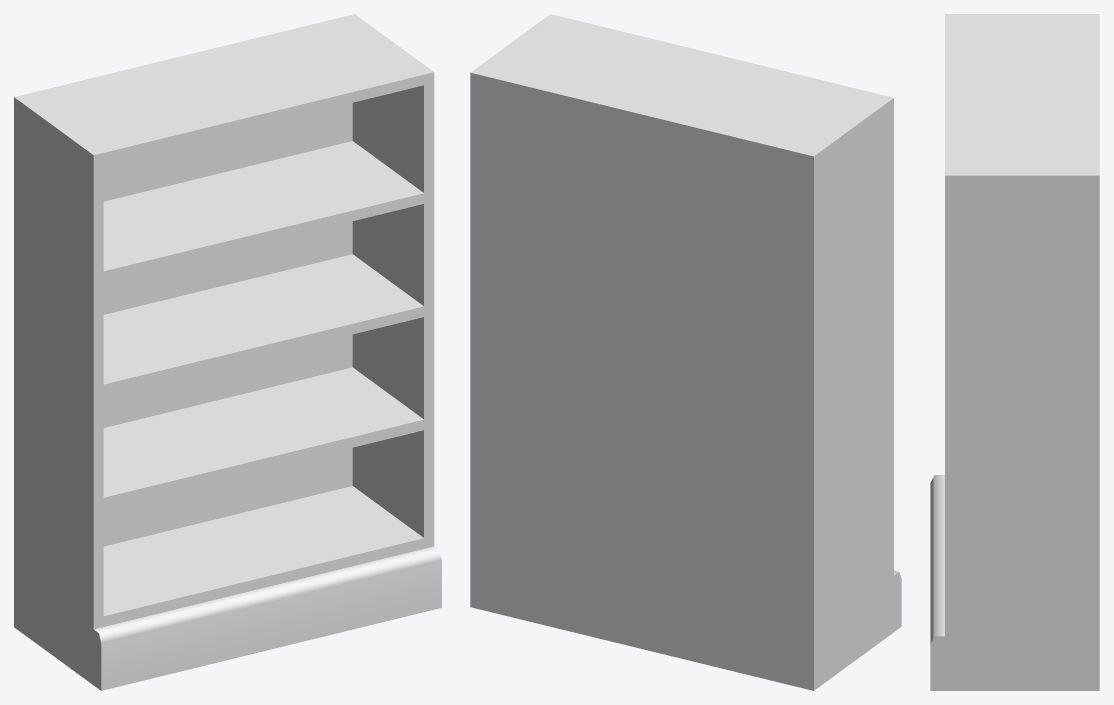
The model's file is cupboard_019.fbx.
3 views of the same model, side by side, from view 1: azimuth 30°, elevation 25°; view 2: azimuth 150°, elevation 25°; view 3: azimuth 270°, elevation 25° (orthographic). The views are drawn at different scales.
Parts seen in each view (by area): view 1: cupboard_019; view 2: cupboard_019; view 3: cupboard_019.
Part boxes in pixels (x1,y1,x2,y2): cupboard_019: [14, 14, 441, 690]; cupboard_019: [470, 14, 901, 690]; cupboard_019: [930, 14, 1099, 690].
Bounding box in the file's own units: 157 × 69.47 × 233.
